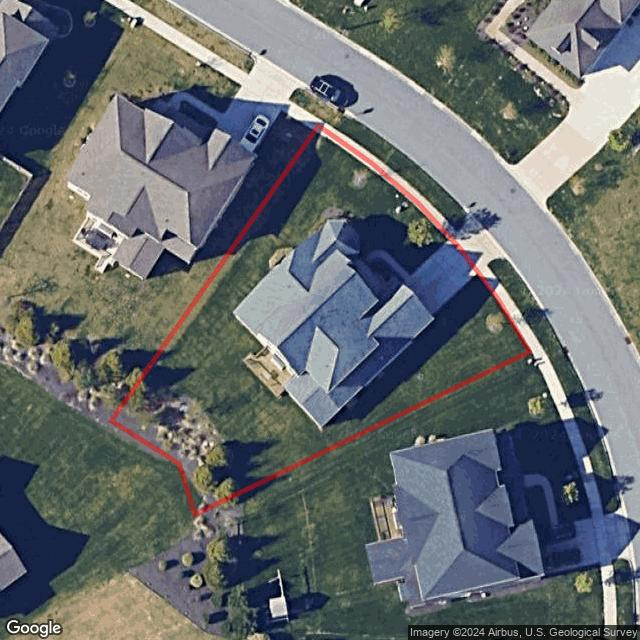Driveway: (400, 240, 480, 316)
Extra-Driveway: (450, 214, 506, 278)
Extra-Lawn: (324, 108, 467, 230), (487, 258, 558, 349)
Extra-Sidewalk: (319, 121, 455, 237), (480, 266, 541, 352)
House: (232, 220, 435, 429)
Lawn: (114, 126, 531, 516)
Other: (111, 373, 241, 511), (310, 205, 372, 257), (242, 345, 295, 396), (270, 247, 297, 272)
Sidewalk: (316, 126, 451, 240), (361, 250, 410, 281)
